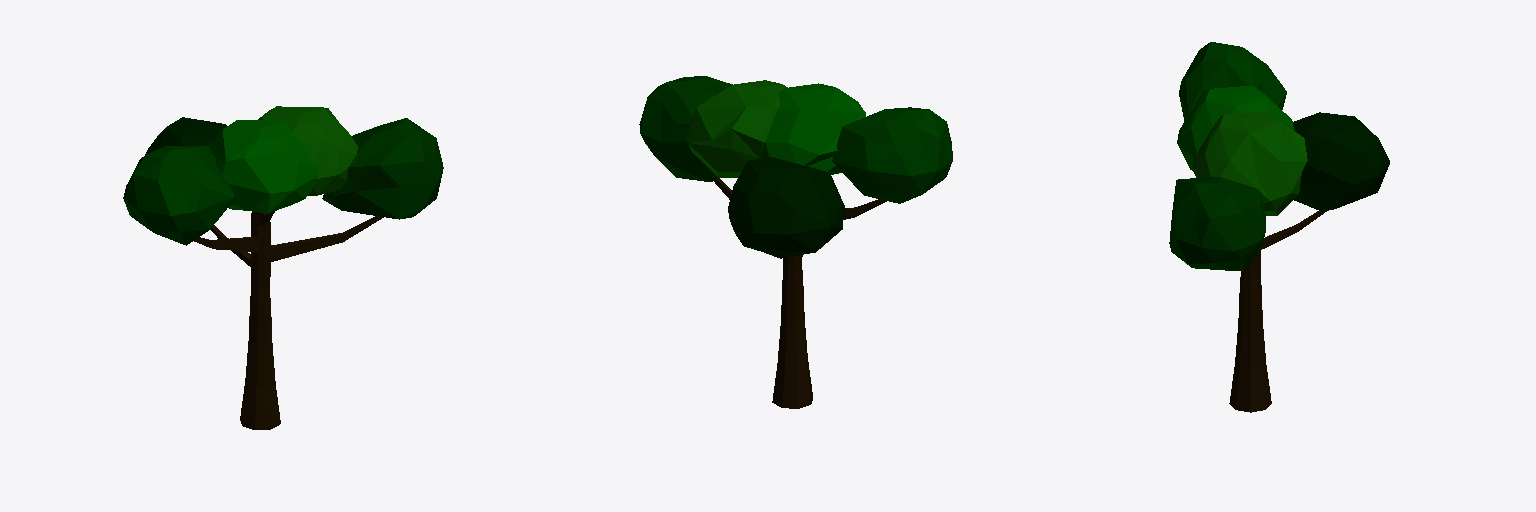
File: OakTree1.obj
3 renders of one model, left to right at view 1: azimuth 30°, elevation 25°; view 2: azimuth 150°, elevation 25°; view 3: azimuth 270°, elevation 25°, orthographic.
Visible parts, largest first — view 1: Icosphere.001, Icosphere, Cylinder, Icosphere.006, Icosphere.005, Icosphere.002; view 2: Icosphere.002, Icosphere, Icosphere.005, Icosphere.006, Icosphere.001, Cylinder; view 3: Icosphere.001, Icosphere.005, Icosphere.002, Cylinder, Icosphere, Icosphere.006.
Boxes of the visible parts, x1=… form: Icosphere.001: x1=322, y1=118, x2=443, y2=219; Icosphere: x1=123, y1=146, x2=234, y2=245; Cylinder: x1=194, y1=211, x2=383, y2=429; Icosphere.006: x1=208, y1=120, x2=318, y2=213; Icosphere.005: x1=258, y1=106, x2=358, y2=195; Icosphere.002: x1=145, y1=117, x2=226, y2=154; Icosphere.002: x1=728, y1=157, x2=845, y2=258; Icosphere: x1=832, y1=107, x2=952, y2=203; Icosphere.005: x1=686, y1=80, x2=787, y2=177; Icosphere.006: x1=760, y1=83, x2=865, y2=174; Icosphere.001: x1=639, y1=76, x2=732, y2=181; Cylinder: x1=714, y1=178, x2=886, y2=408; Icosphere.001: x1=1169, y1=177, x2=1265, y2=270; Icosphere.005: x1=1193, y1=111, x2=1307, y2=215; Icosphere.002: x1=1293, y1=112, x2=1389, y2=211; Cylinder: x1=1229, y1=211, x2=1326, y2=412; Icosphere: x1=1179, y1=42, x2=1286, y2=121; Icosphere.006: x1=1177, y1=86, x2=1294, y2=170.
Size of the model in its own units: 13.73 by 13.22 by 8.68.